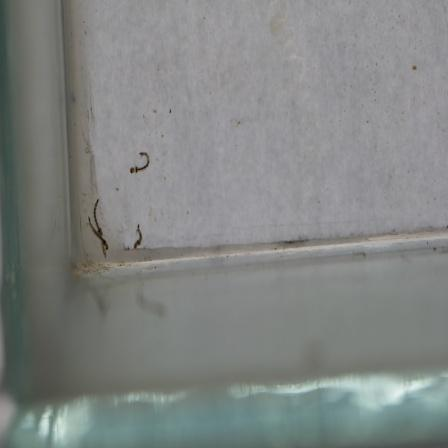Jentik-Nyamuk: (84, 195, 112, 261), (128, 147, 152, 177), (131, 223, 144, 251)
